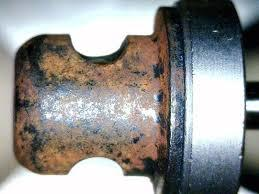Low: (11, 12, 169, 178)
